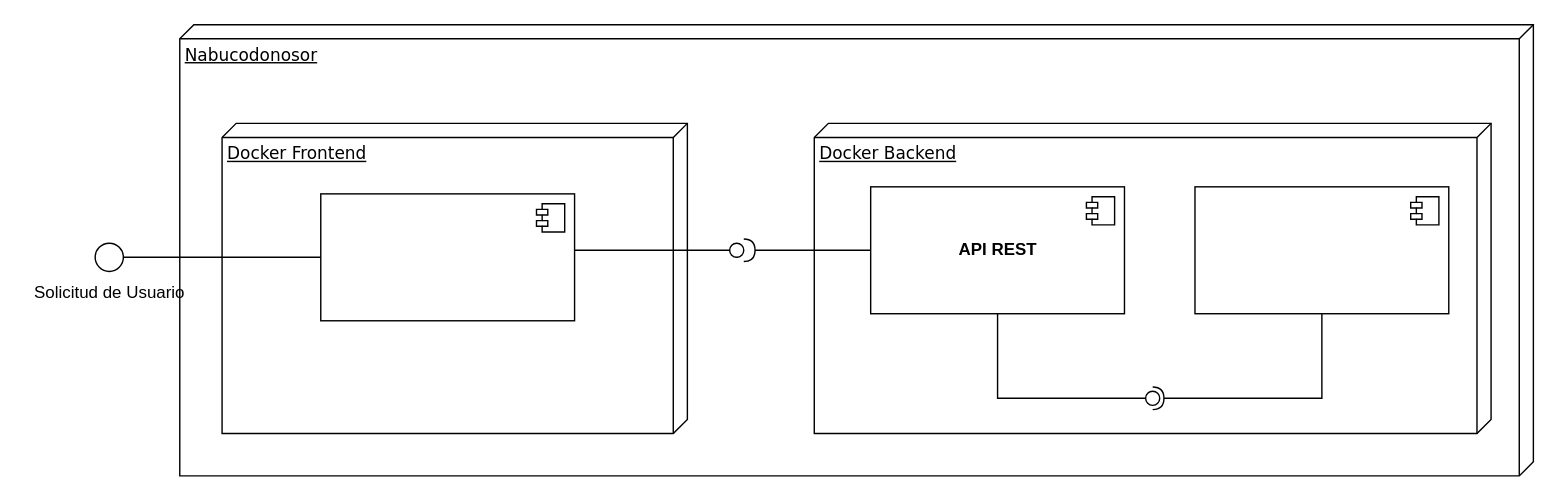
This 1558x501 diagram has some shape labels left out. The shapes that lost their labels are listed below. From the top down, each one's centre as x and y in pixels, then its label:
At [447,256]: "Pagina Web".
At [1321,249]: "Modelo Machine Learning (YOLO v5)".
